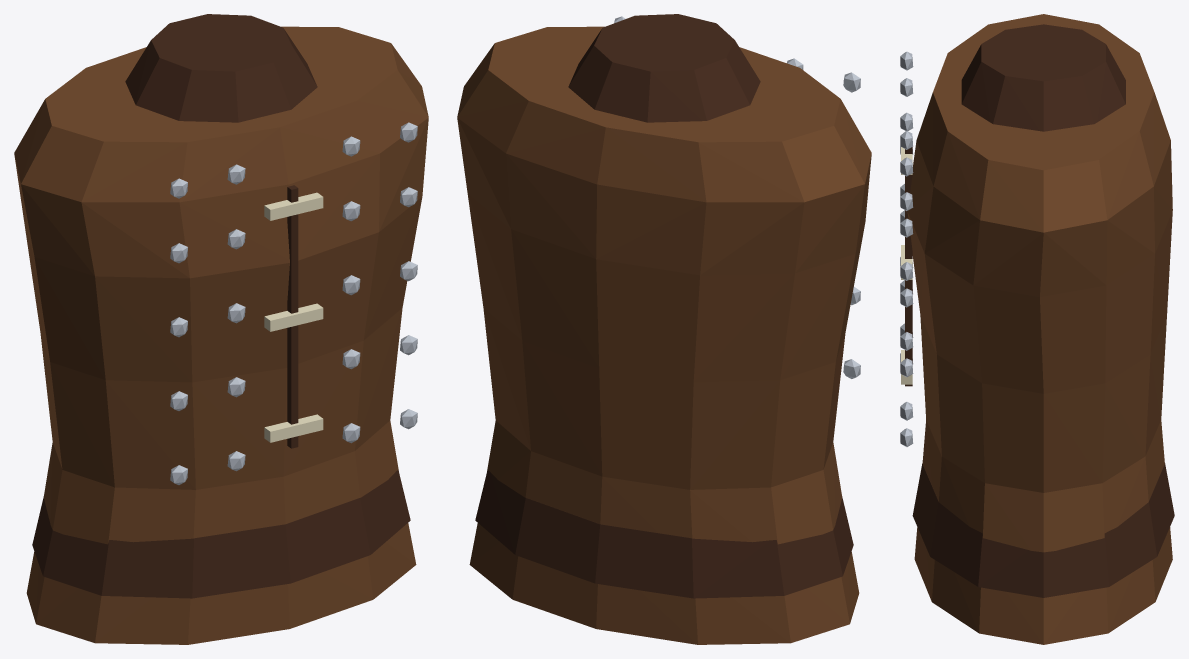
The model's file is gear_studded_body_torso_m.glb.
The picture shows the model from 3 angles, left to right: view 1: azimuth 30°, elevation 25°; view 2: azimuth 150°, elevation 25°; view 3: azimuth 270°, elevation 25°; orthographic projection. The views are drawn at different scales.
Visible parts, largest first — view 1: gear_studded_body_torso_m; view 2: gear_studded_body_torso_m; view 3: gear_studded_body_torso_m.
Part boxes in pixels (x1=…): gear_studded_body_torso_m: x1=14, y1=14, x2=428, y2=644; gear_studded_body_torso_m: x1=457, y1=14, x2=871, y2=644; gear_studded_body_torso_m: x1=900, y1=14, x2=1174, y2=644.
Bounding box in the file's own units: 0.454 × 0.58 × 0.2849.
